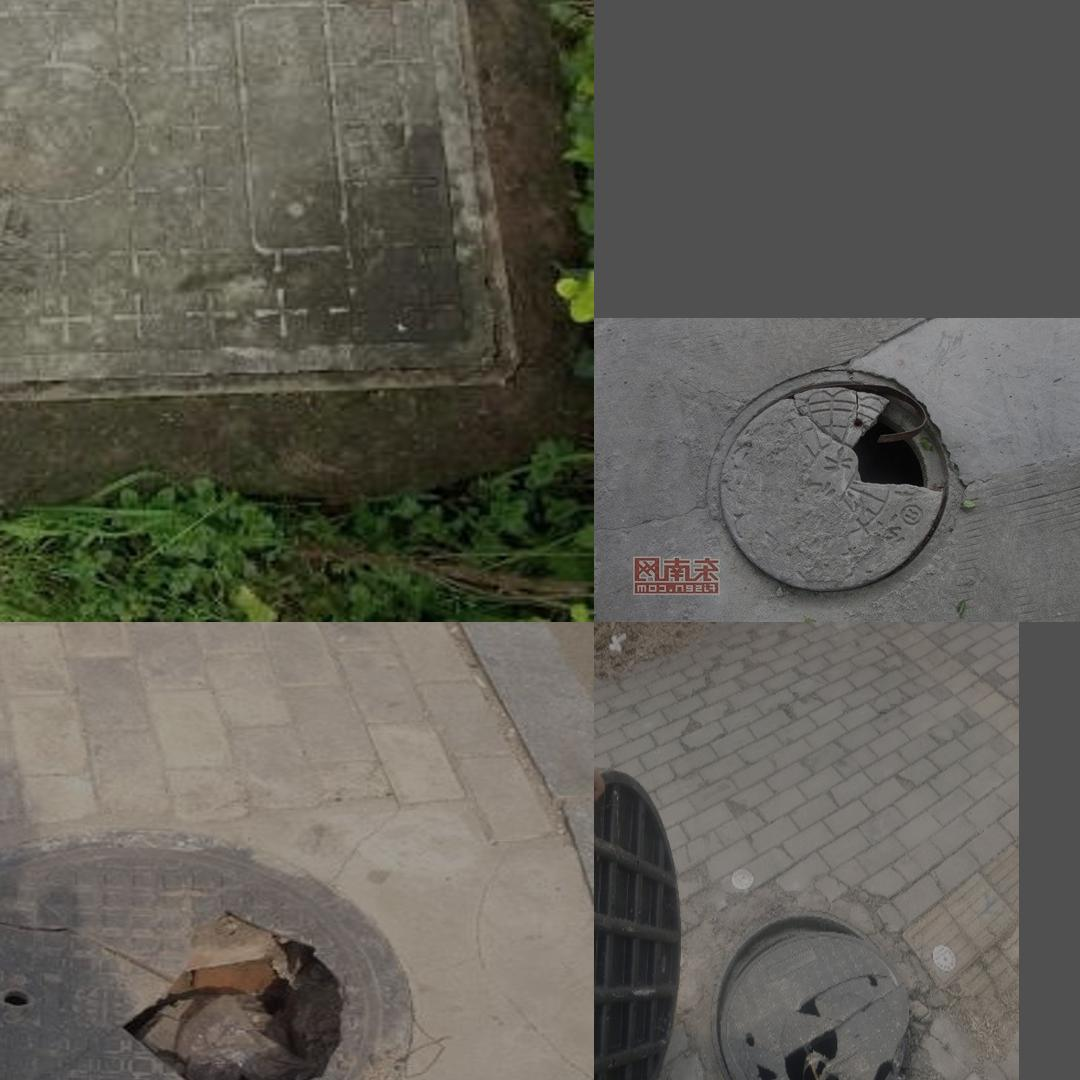broke: (0, 0, 504, 382), (0, 810, 445, 1080), (700, 361, 969, 604), (710, 908, 911, 1080)
